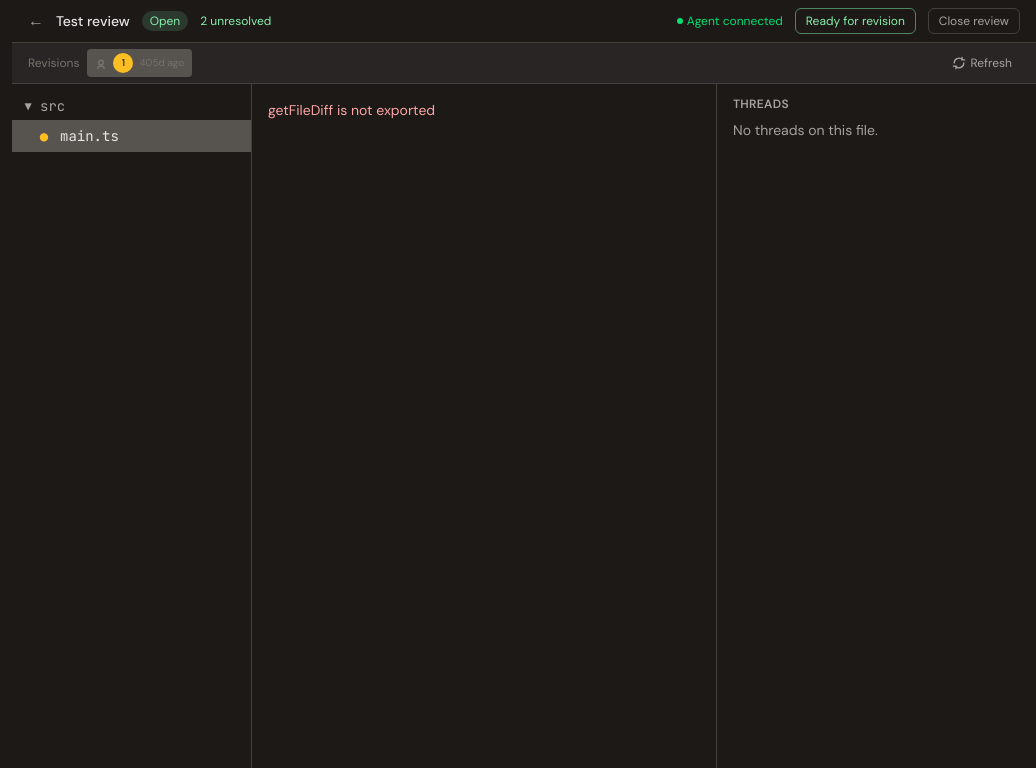
Test: ReviewView agent presence and revision › shows 'Revision requested...' after clicking
Click the button "Ready for revision" at (855, 21), box [795, 8, 916, 34]
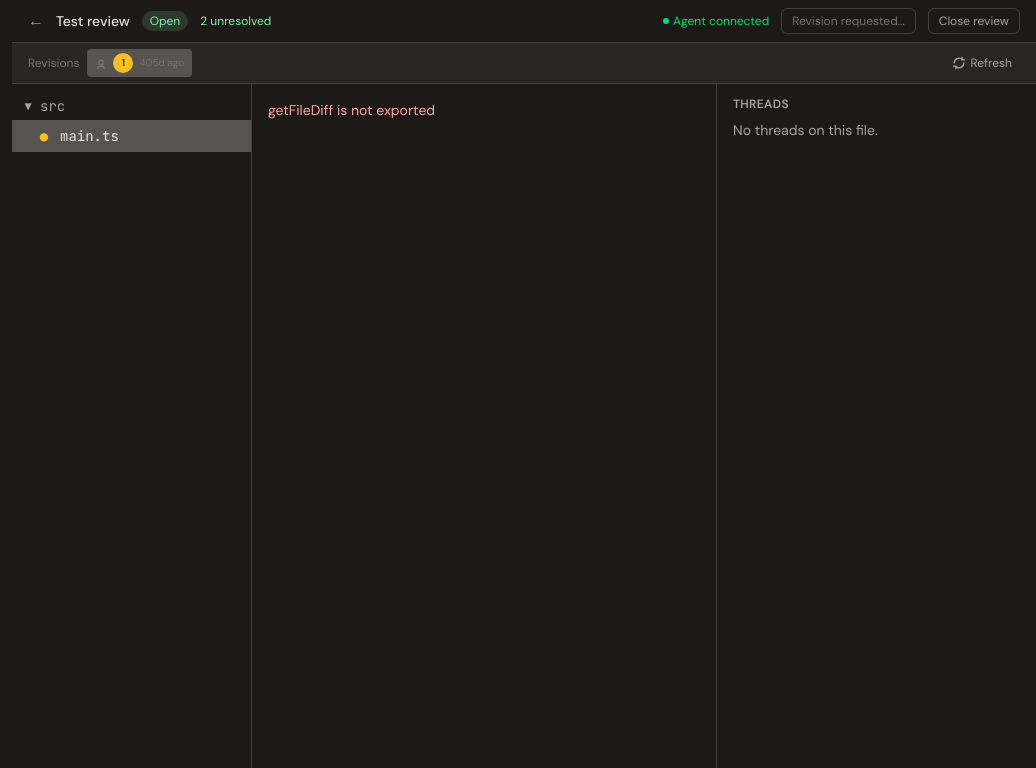
Check: the button "Revision requested..." is shown, box [781, 8, 916, 34]
